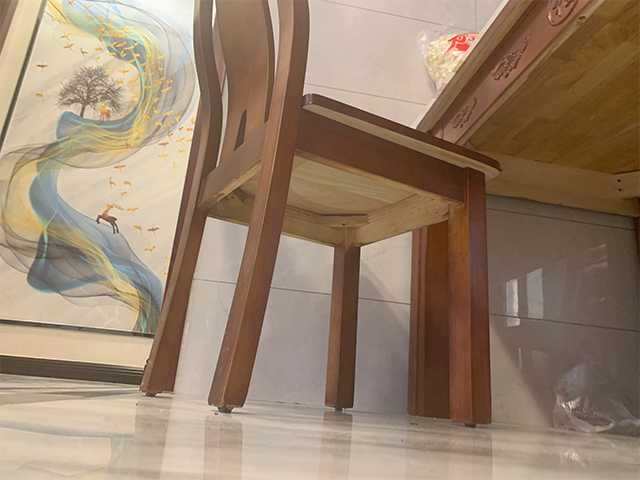stool: (138, 1, 501, 428)
table: (408, 1, 640, 429)
